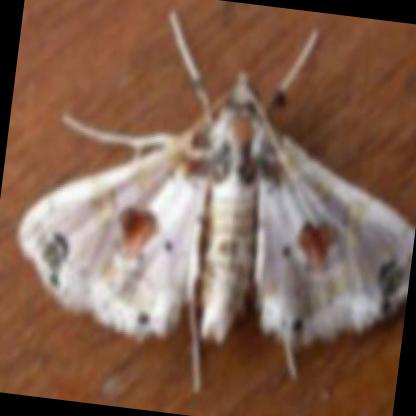leucinodes: (16, 76, 412, 353)
